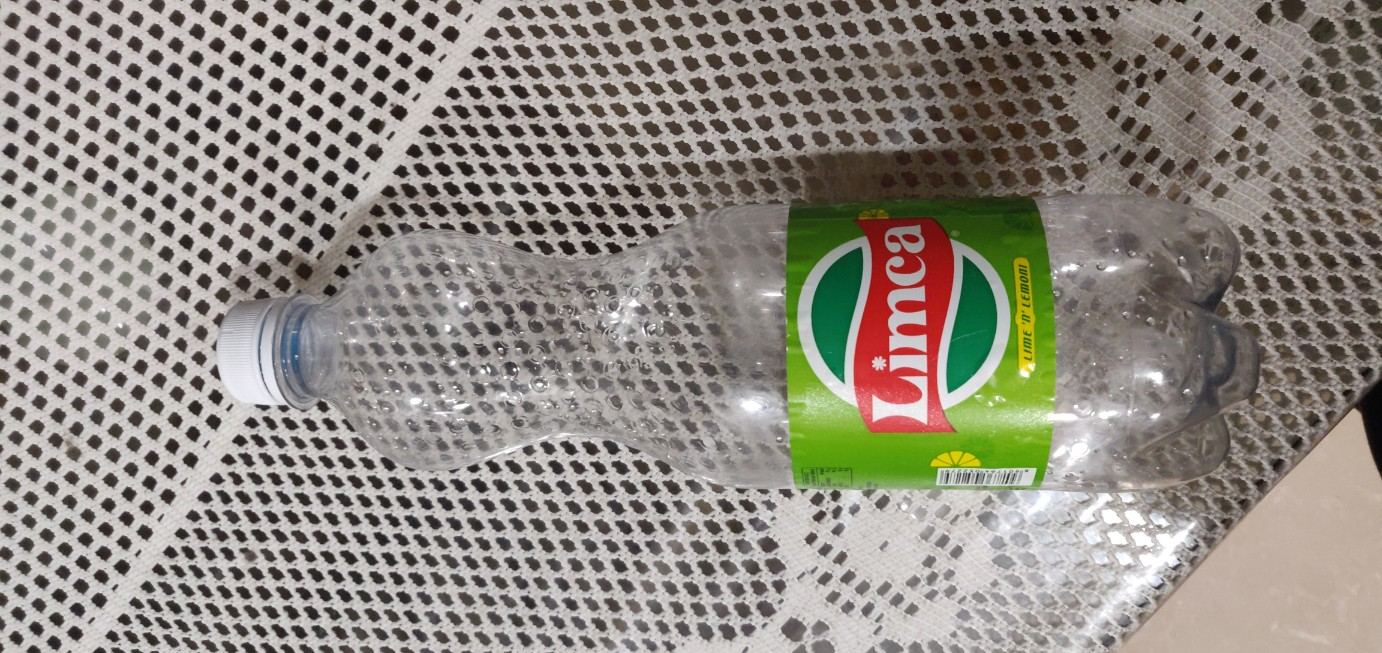Electronics: (192, 173, 1280, 523)
